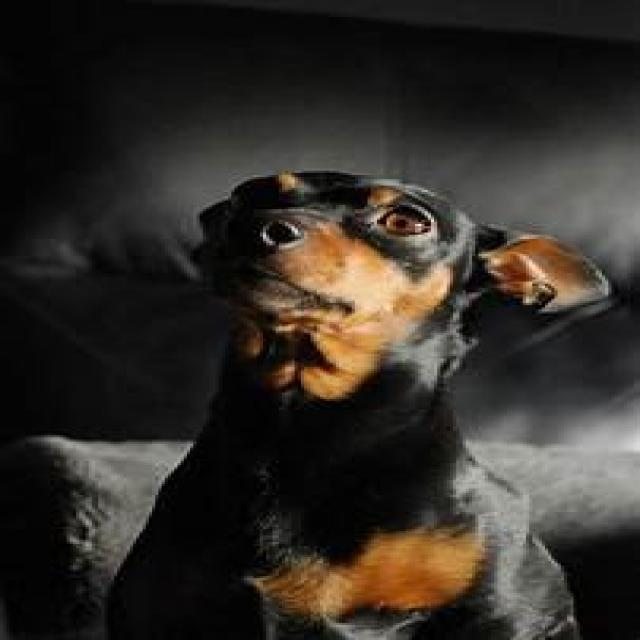dog: (101, 173, 611, 640)
